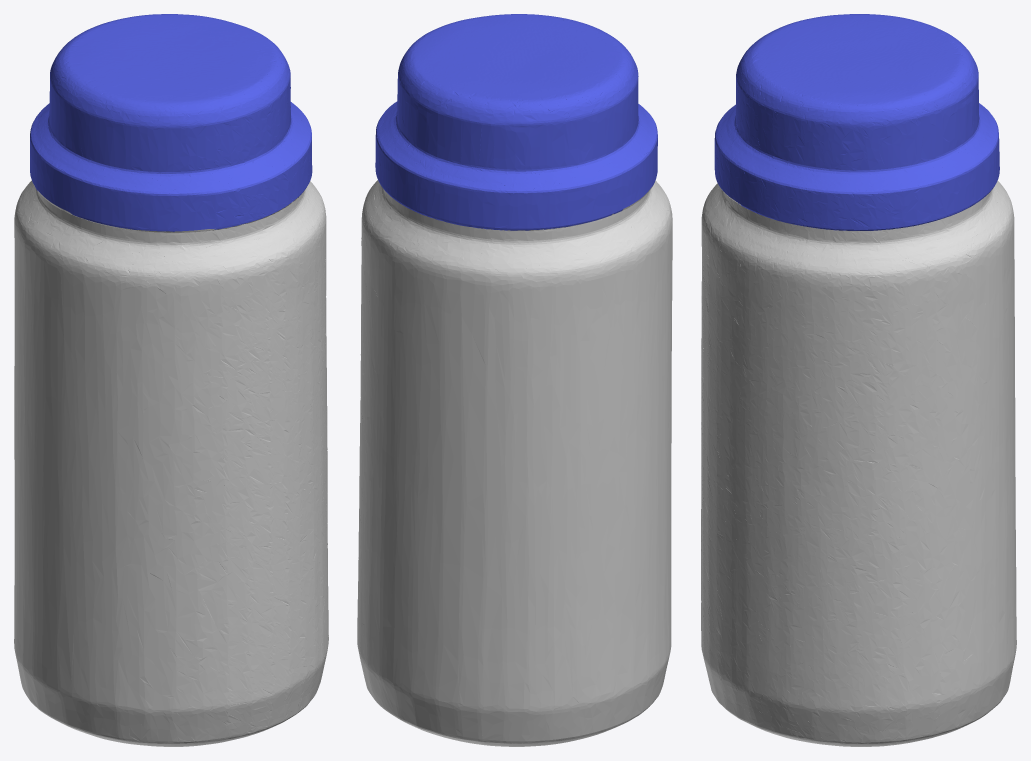
The model's file is plastic bottle.glb.
3 renders of one model, left to right at view 1: azimuth 30°, elevation 25°; view 2: azimuth 150°, elevation 25°; view 3: azimuth 270°, elevation 25°, orthographic.
Parts seen in each view (by area): view 1: geometry_0; view 2: geometry_0; view 3: geometry_0.
Boxes of the visible parts, x1=… form: geometry_0: x1=14, y1=14, x2=328, y2=746; geometry_0: x1=357, y1=14, x2=672, y2=746; geometry_0: x1=701, y1=14, x2=1016, y2=746.
Size of the model in its own units: 0.8891 by 1.99 by 0.8912.
